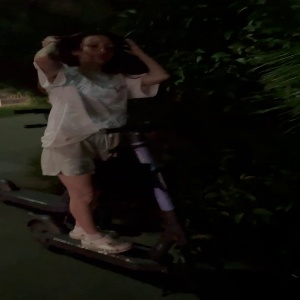human on a scooter: (23, 23, 215, 291)
